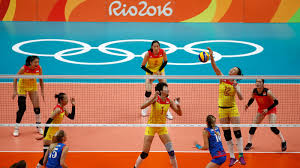ball: (197, 51, 210, 63)
